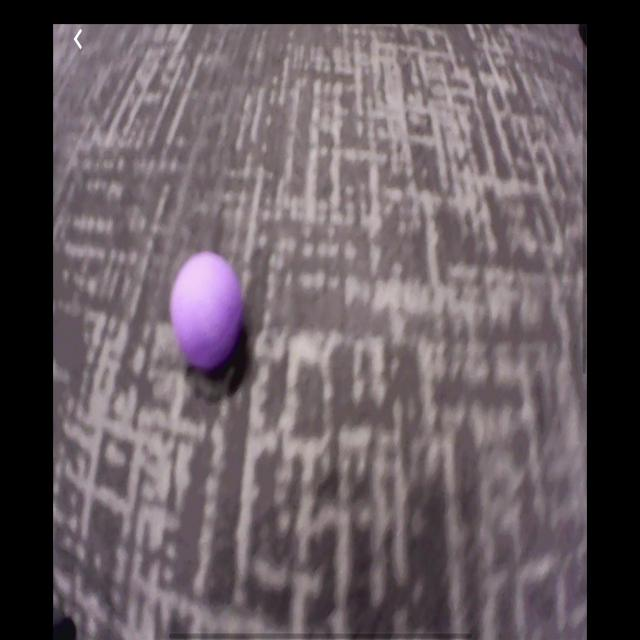ball: (173, 254, 244, 371)
